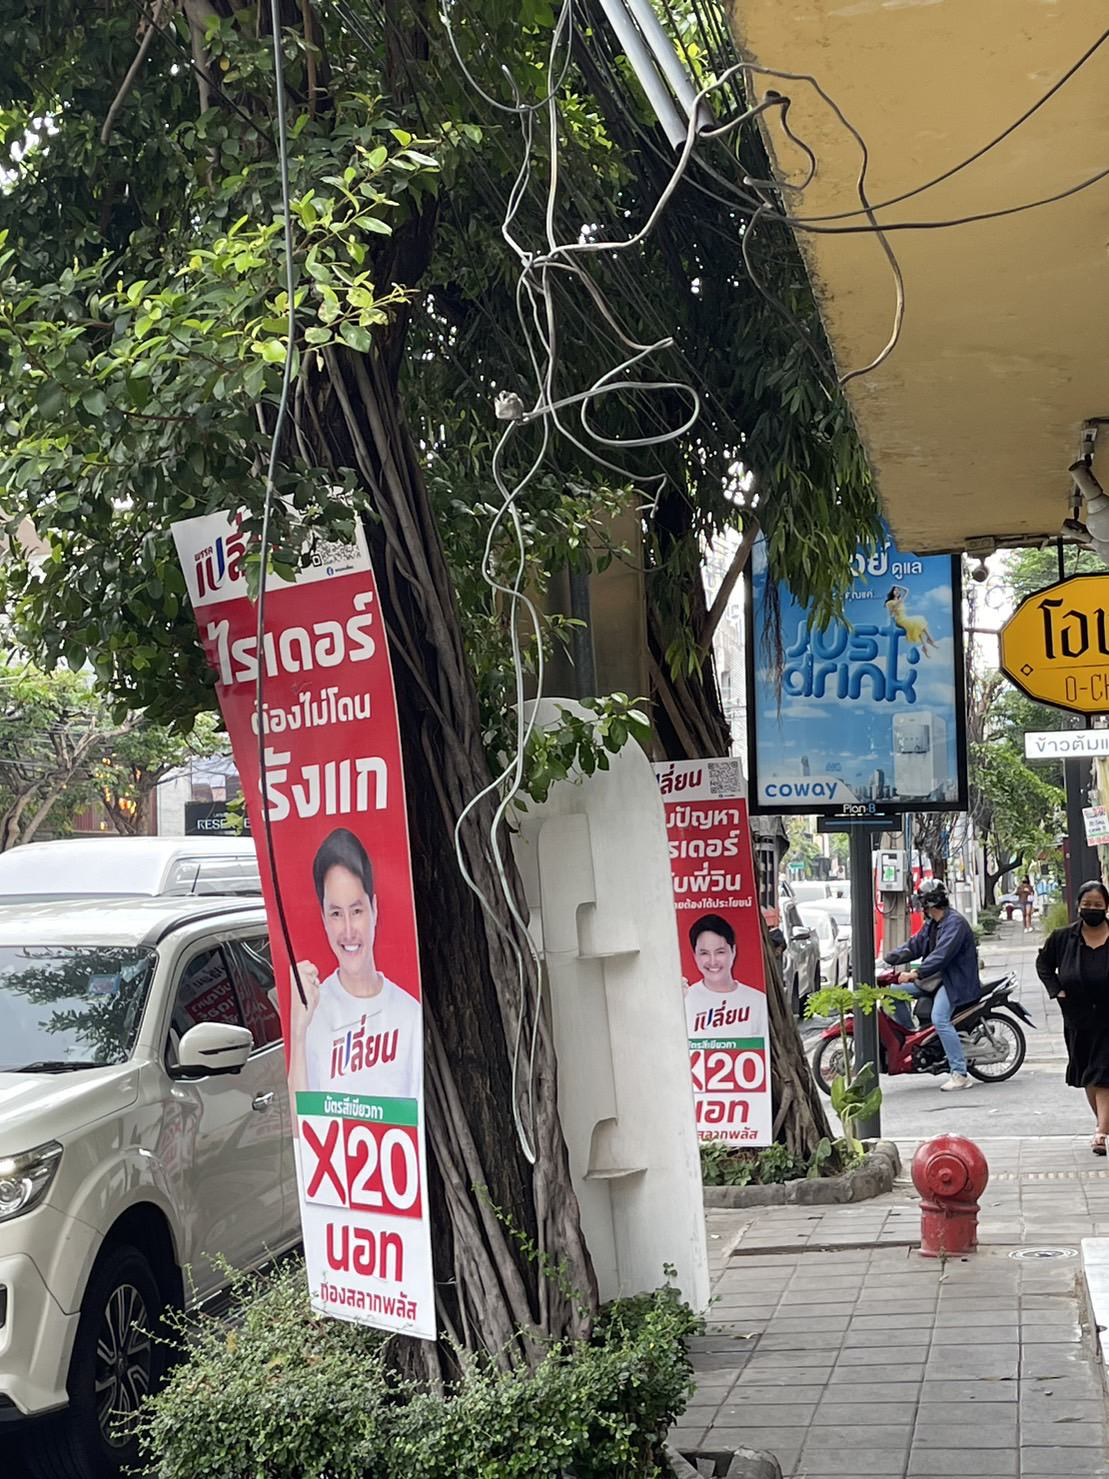Banner: (169, 516, 428, 1340), (642, 757, 770, 1152)
